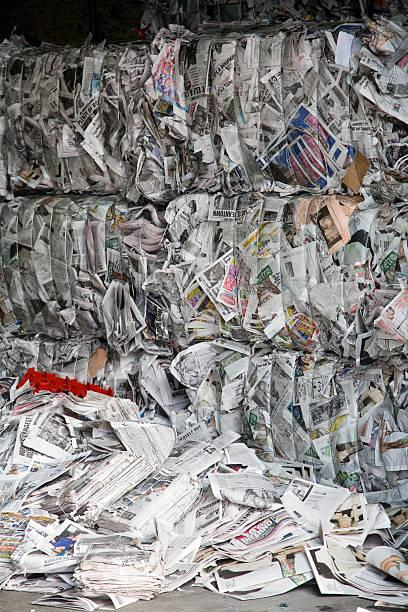paper: (0, 410, 396, 605), (0, 17, 408, 200), (0, 192, 408, 366)
